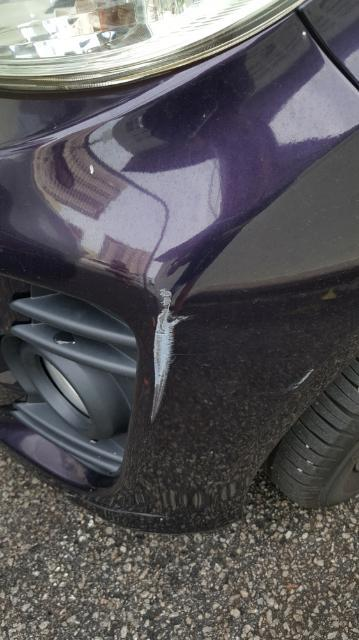scratch: (150, 288, 190, 420)
